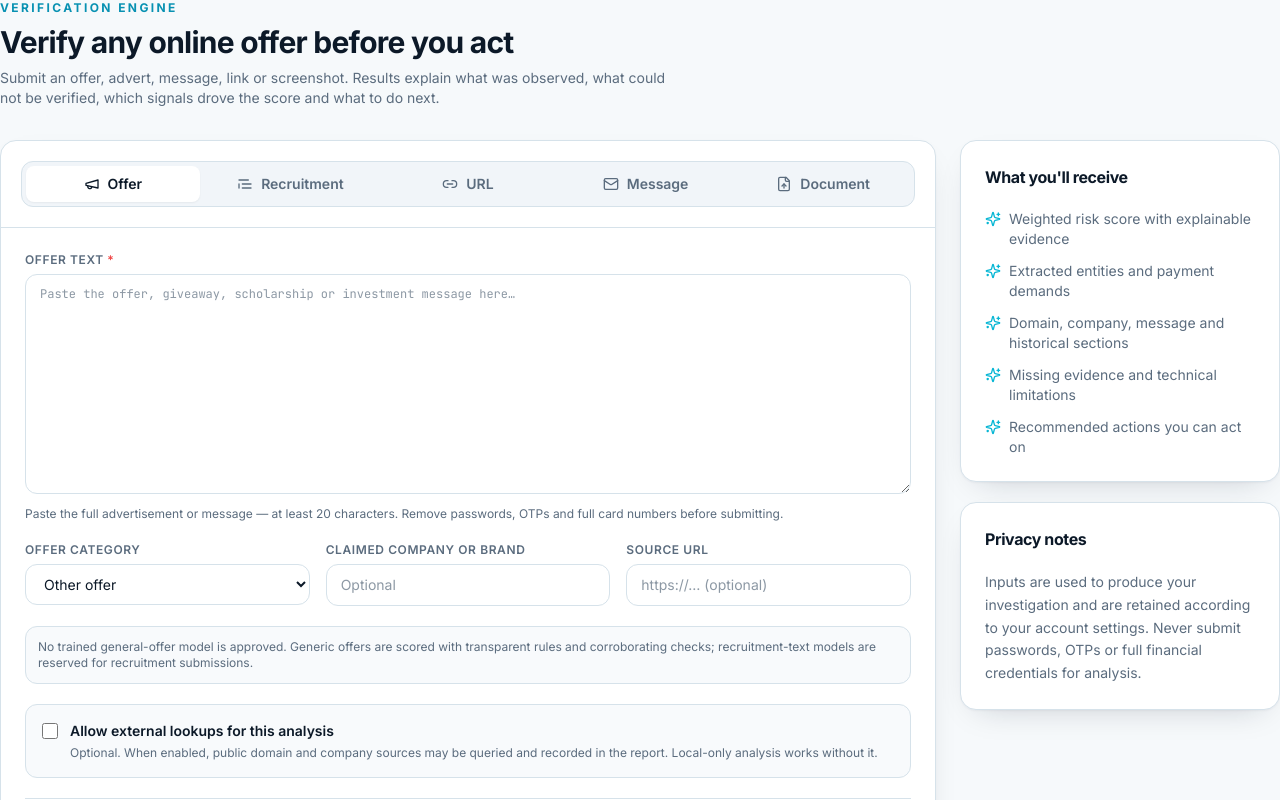
Scenario: analysis workflow › submits recruitment text with consent and opens the resolved report
Click the tab "Recruitment" at (290, 184), box [204,166,377,202]
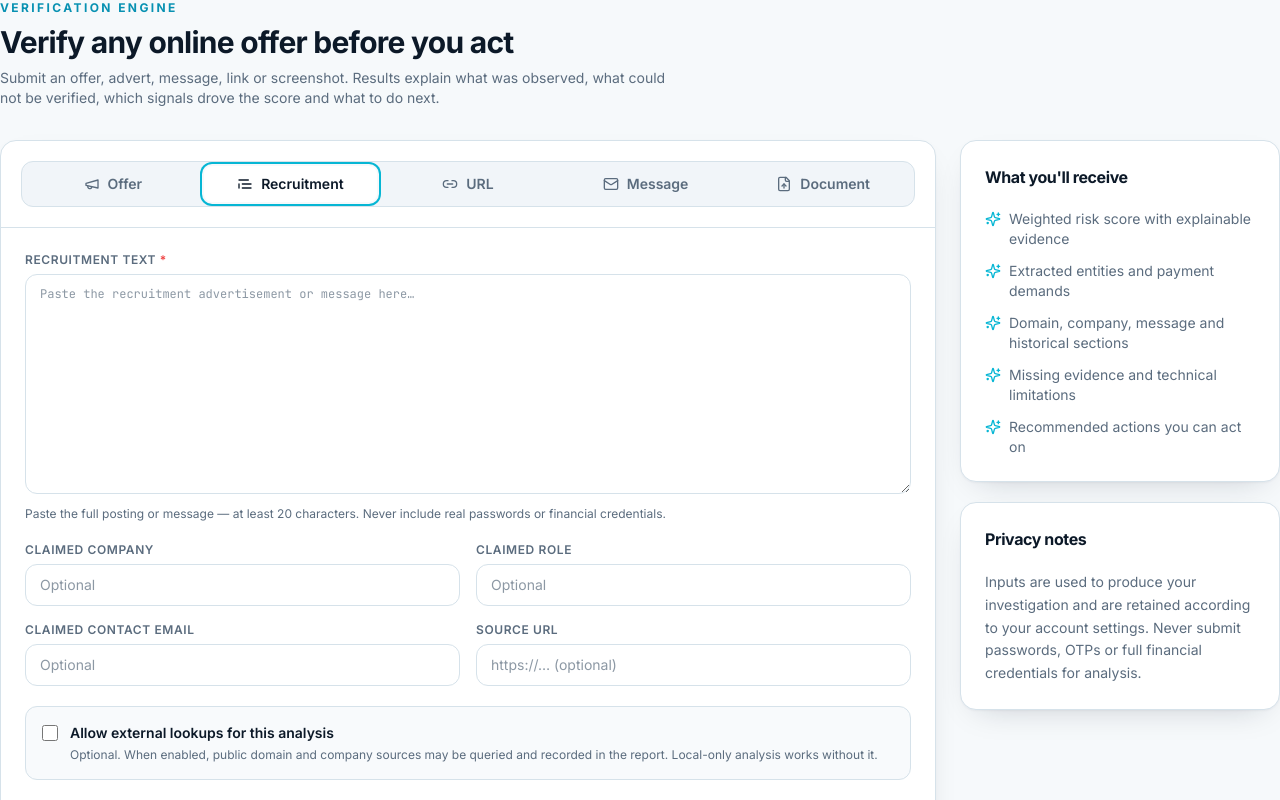
Type "Remote operations associate. No interview required. Salary is competitive and equipment is provided after onboarding." into the text box labelled "Recruitment text *" at (468, 384), box [25,274,911,494]
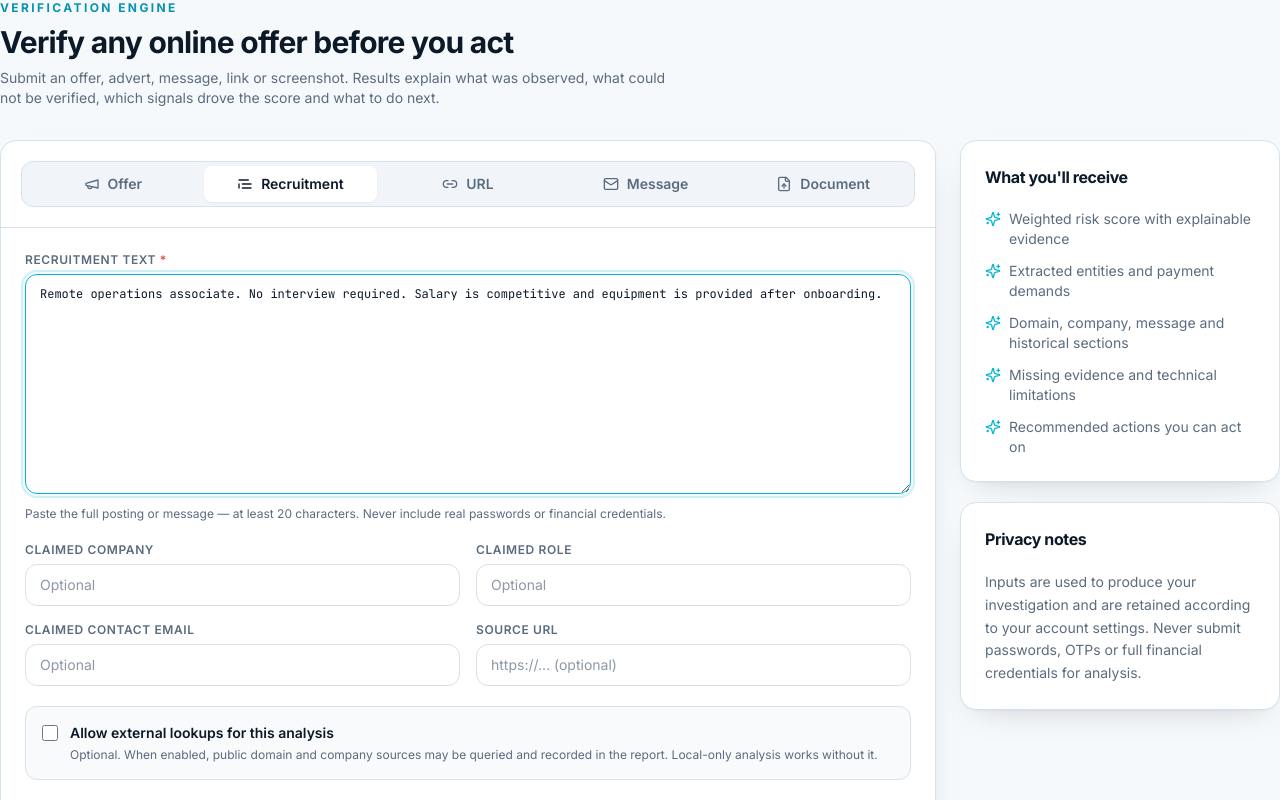
Type "Example Ltd" into the field labelled "Claimed company" at (242, 585), box [25,564,460,606]
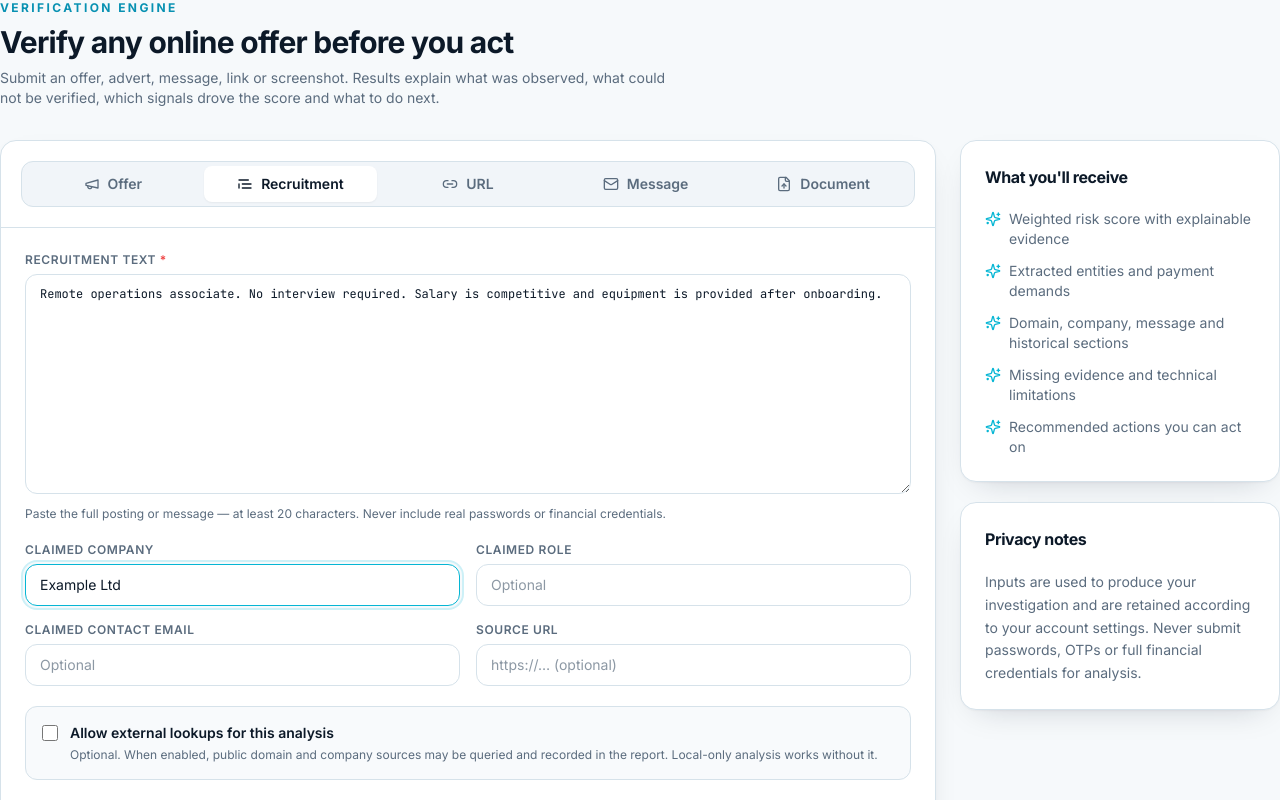
Click the checkbox labelled "Allow external lookups" at (50, 733), box [42,725,58,741]
(page scrolled)
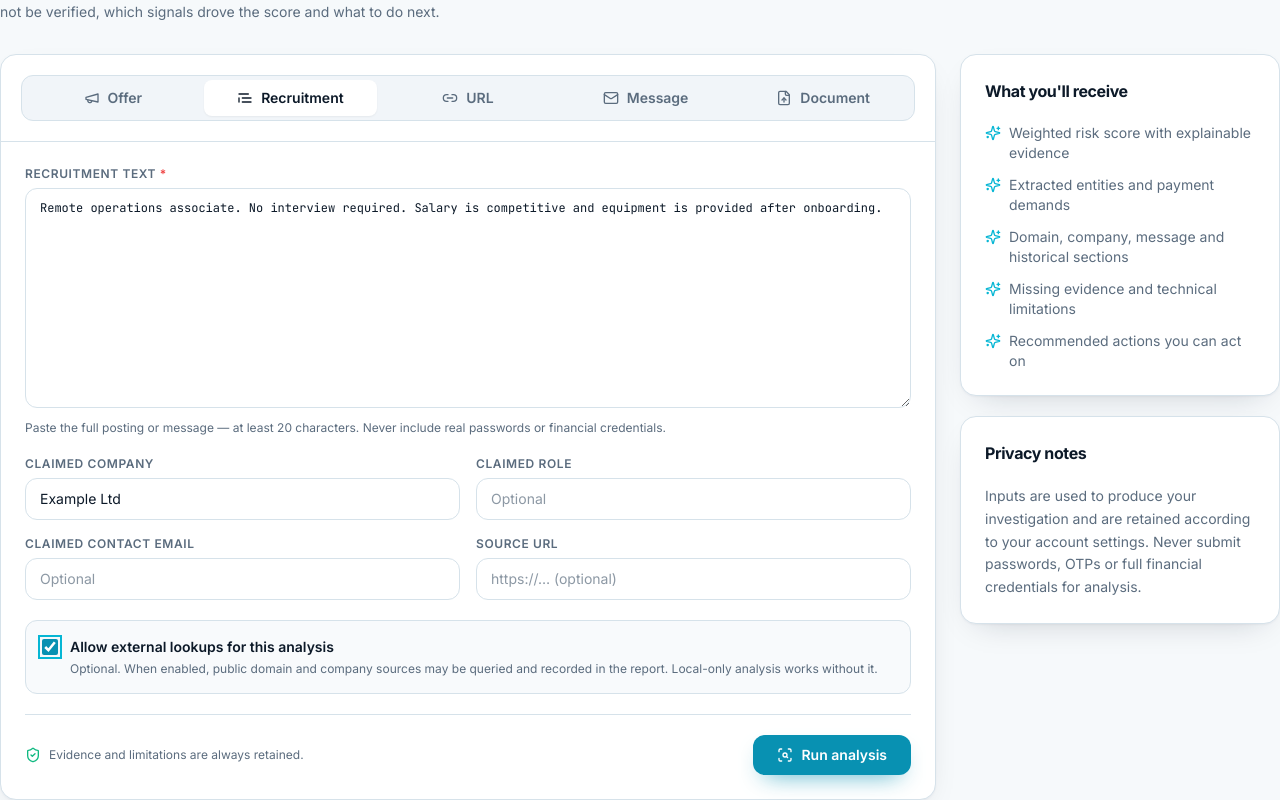
Click the button "Run analysis" at (832, 755), box [754,735,911,775]
(page scrolled)
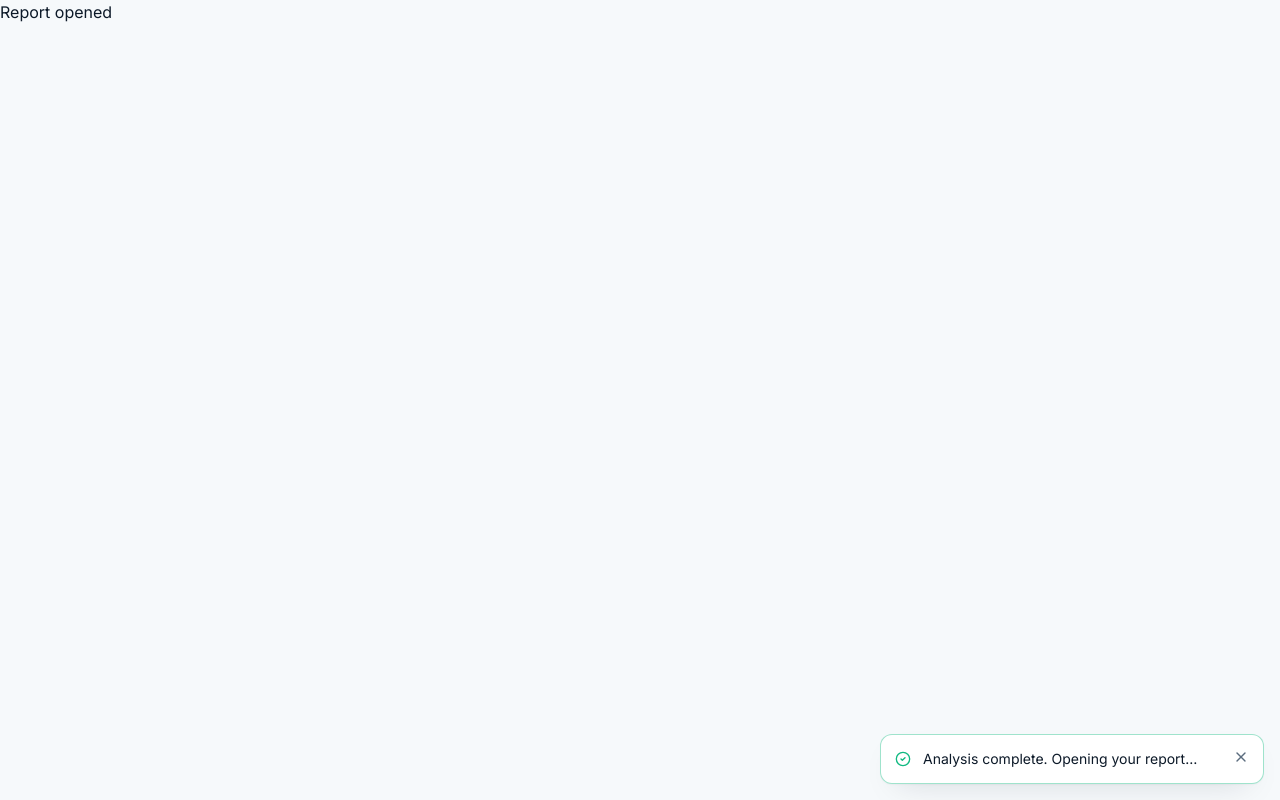
Expected: the text "Report opened" is shown, [0,2,112,22]
